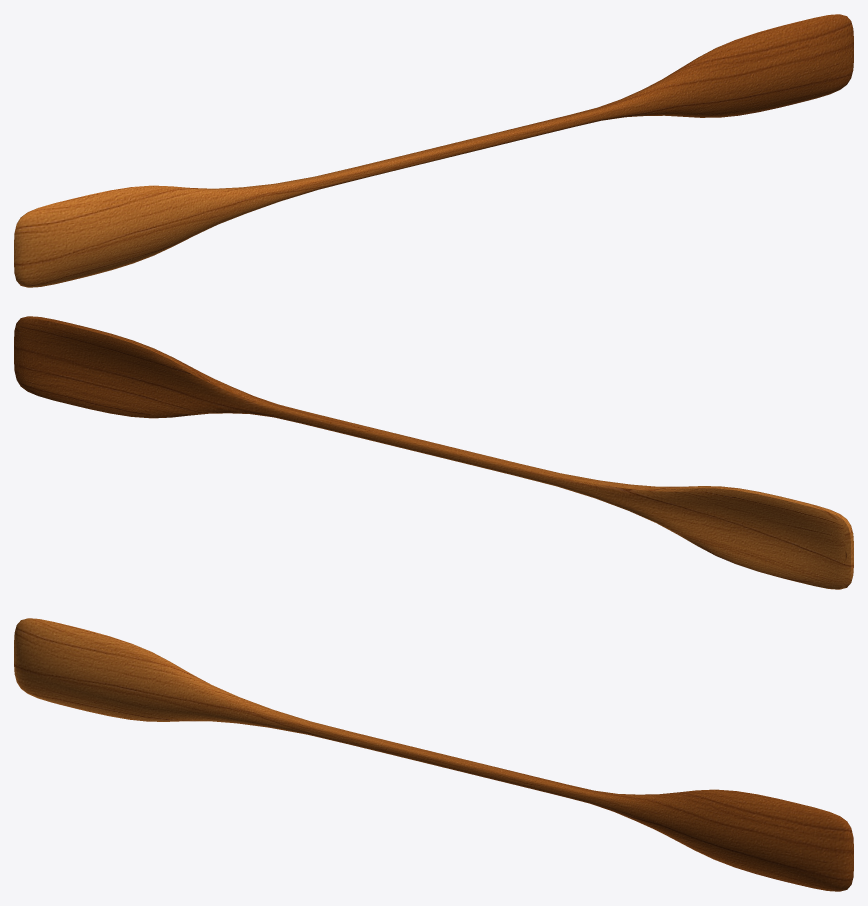
File: paddle.fbx
3 renders of one model, top to bottom at view 1: azimuth 30°, elevation 25°; view 2: azimuth 150°, elevation 25°; view 3: azimuth 330°, elevation 25°, orthographic.
Parts seen in each view (by area): view 1: paddle; view 2: paddle; view 3: paddle.
Boxes of the visible parts, bbox=[...] form: paddle: bbox=[14, 14, 853, 287]; paddle: bbox=[14, 316, 853, 589]; paddle: bbox=[14, 618, 853, 891].
Size of the model in its own units: 785 by 72.41 by 20.14.
Materials: 1 (1 with a texture image).
